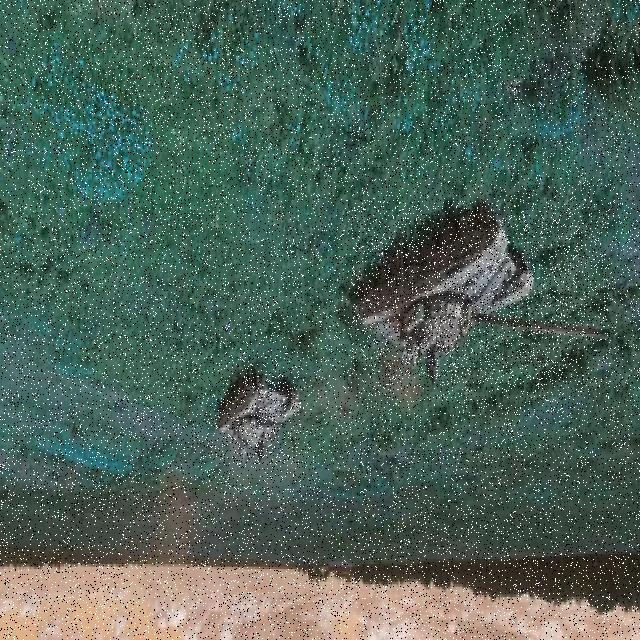MIL_MBT: (351, 202, 610, 387), (217, 363, 301, 464)
